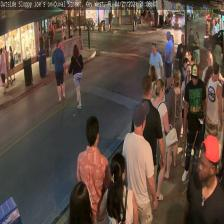person: (122, 100, 157, 224), (130, 75, 163, 200), (76, 116, 112, 223), (147, 79, 169, 201), (100, 153, 138, 223), (162, 68, 182, 178), (52, 39, 68, 101), (68, 44, 83, 108)
